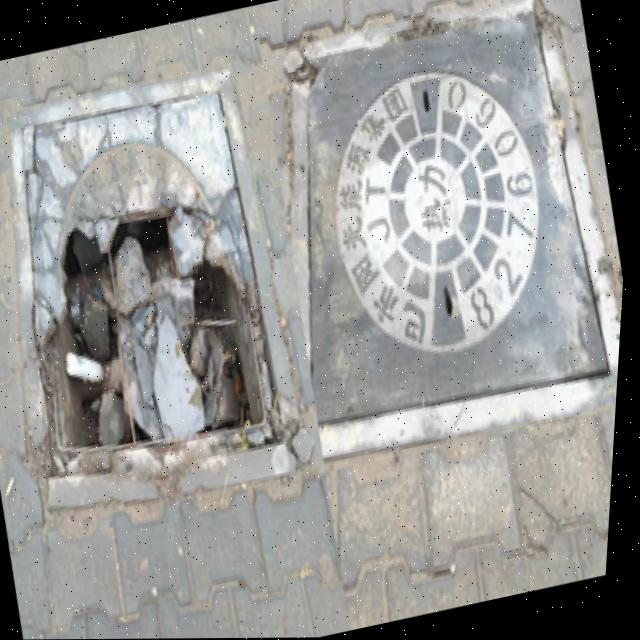manhole: (0, 48, 348, 536)
